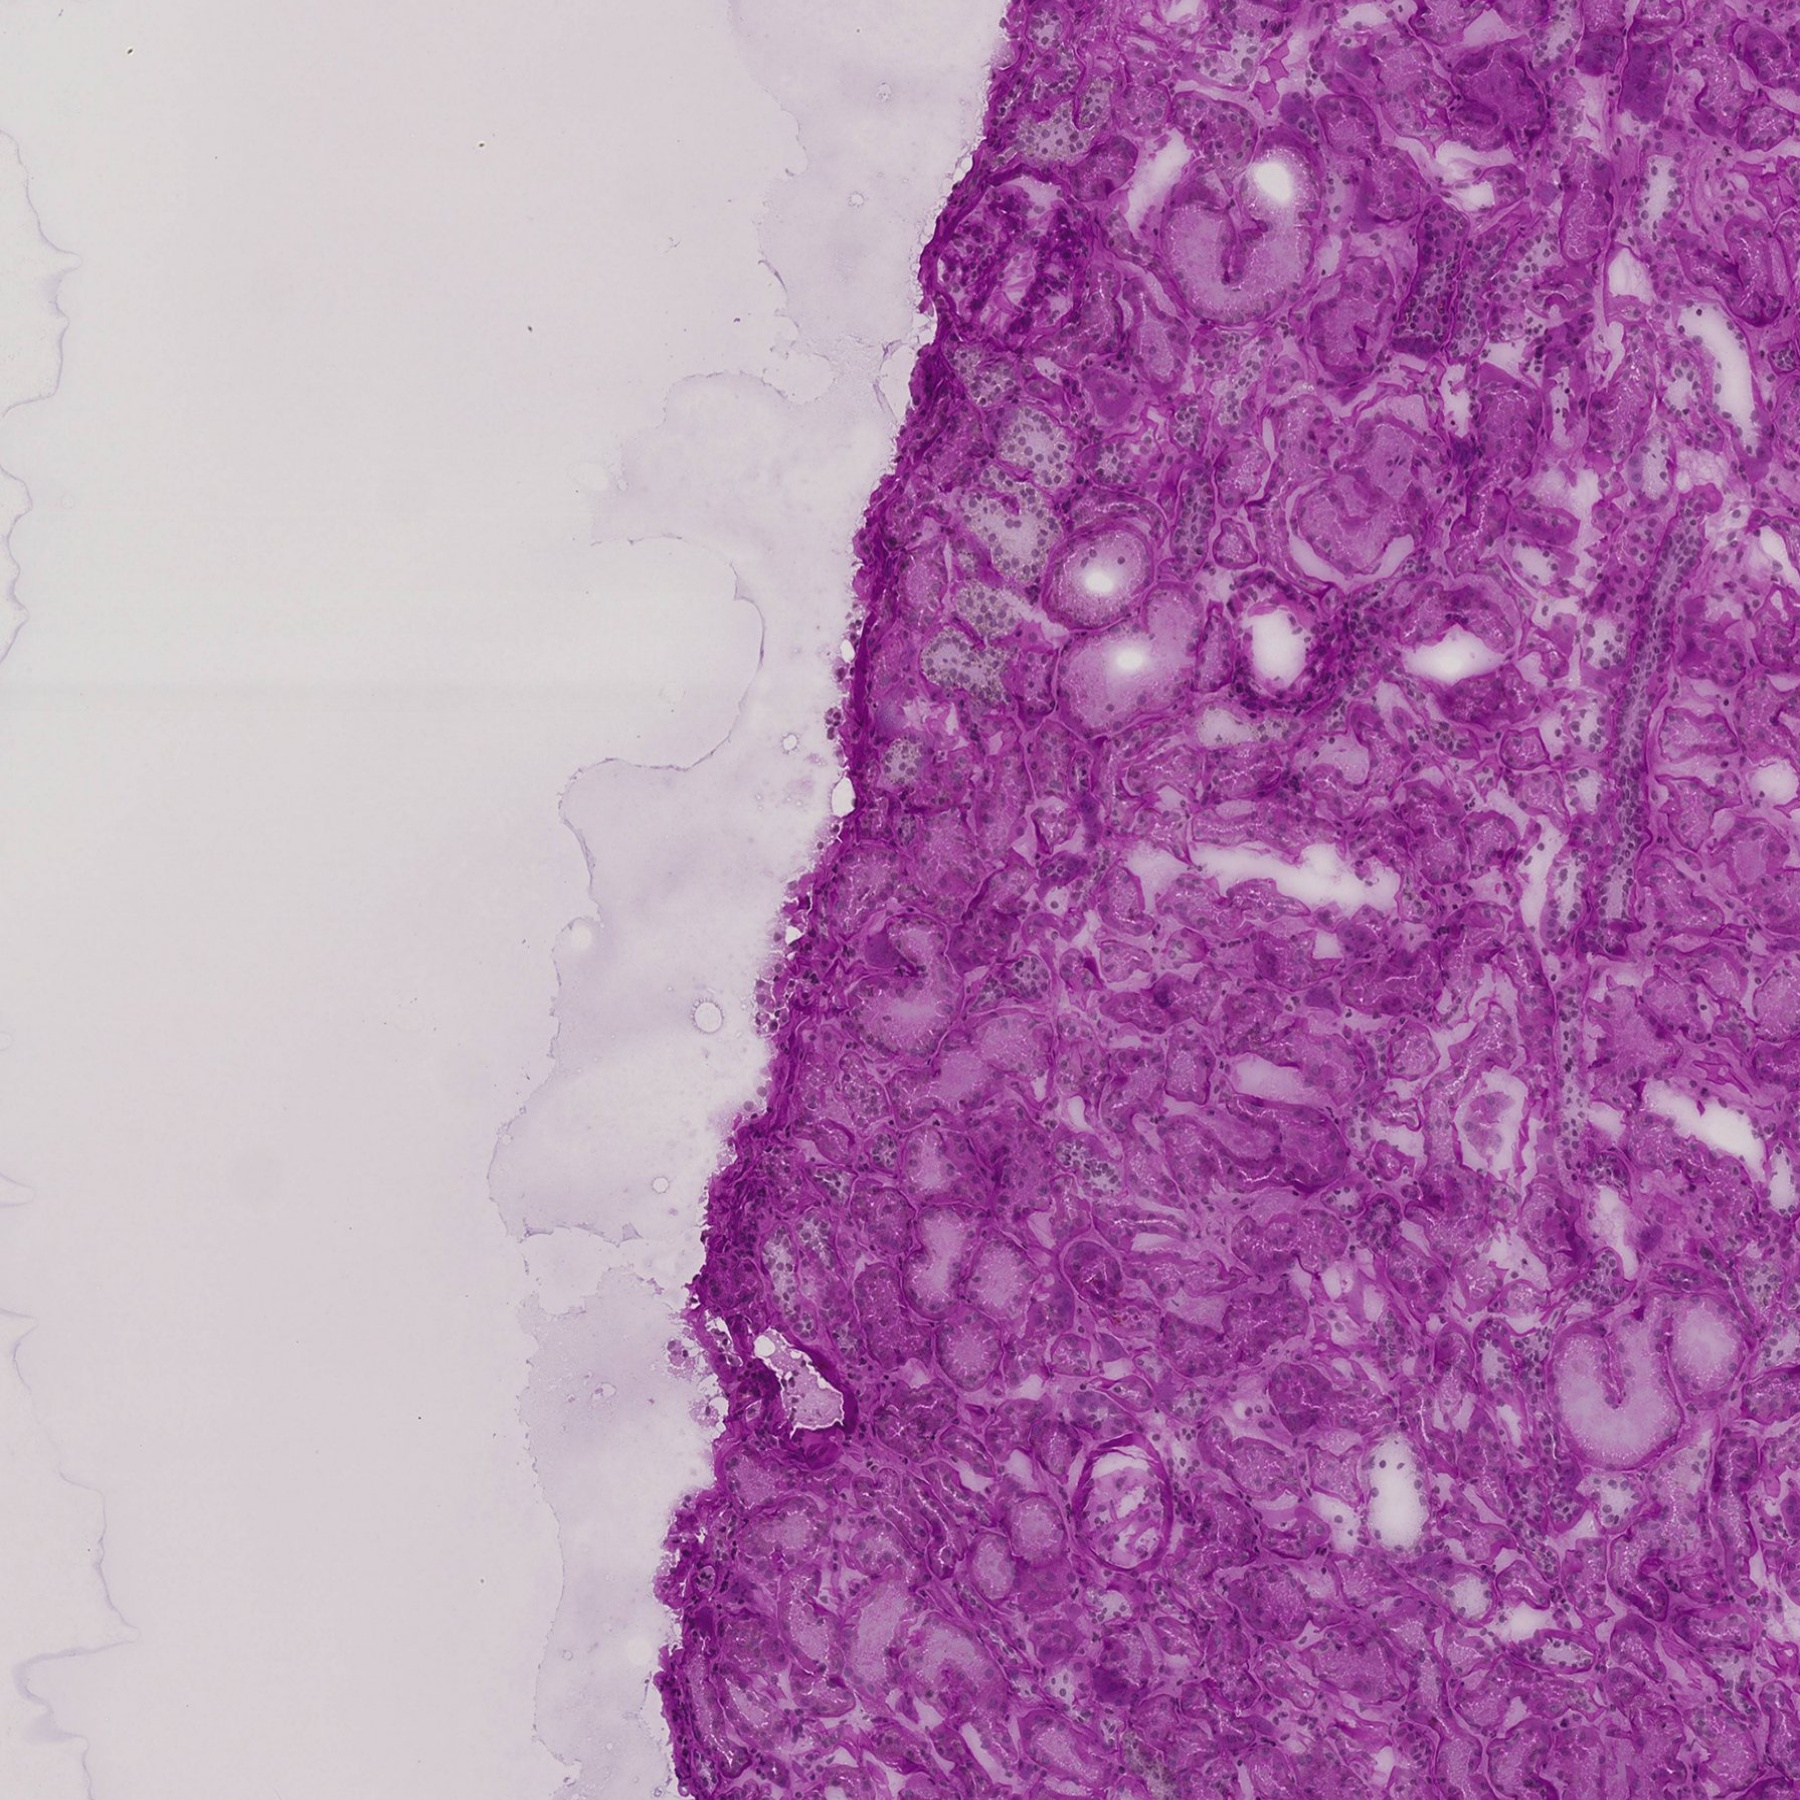Glomeruli: (931, 166, 1099, 358)
